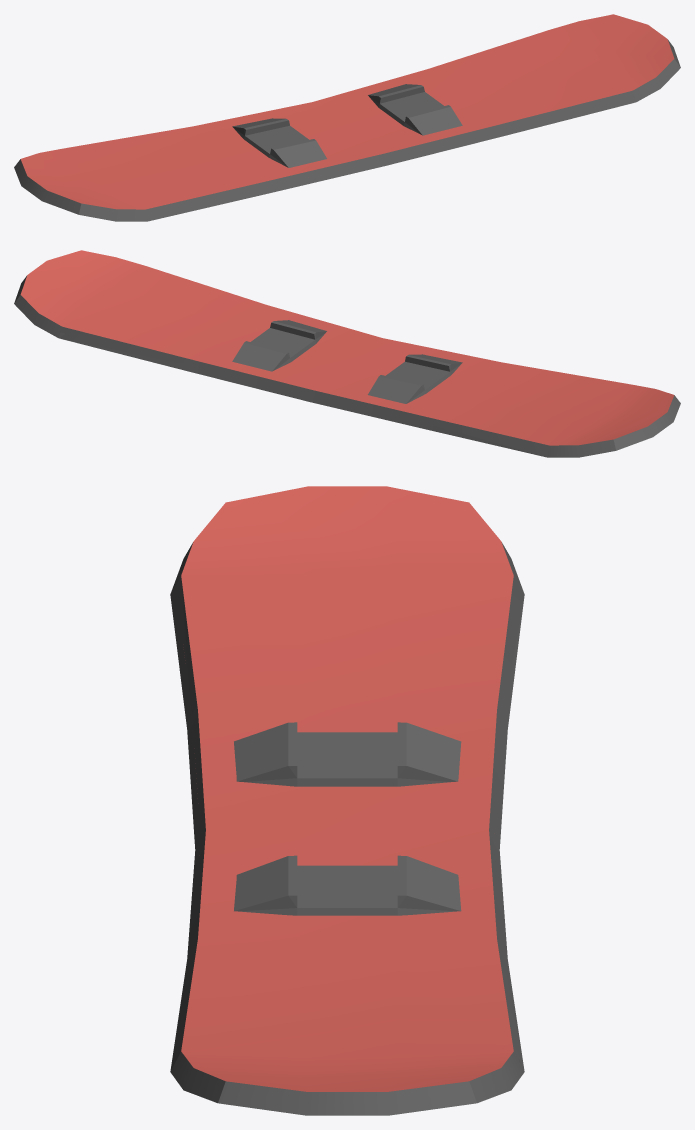
File: ice_snowboard_01.fbx
3 views of the same model, one above another, from view 1: azimuth 30°, elevation 25°; view 2: azimuth 150°, elevation 25°; view 3: azimuth 270°, elevation 25° (orthographic). The views are drawn at different scales.
Parts seen in each view (by area): view 1: snowboard, snowboard_bot_COL, snowboard_top_COL; view 2: snowboard, snowboard_bot_COL, snowboard_top_COL; view 3: snowboard, snowboard_bot_COL, snowboard_bot_end_COL, snowboard_top_end_COL, snowboard_top_COL.
Part boxes in pixels (bbox=[...]): snowboard: bbox=[14, 14, 680, 221]; snowboard_bot_COL: bbox=[146, 96, 636, 221]; snowboard_top_COL: bbox=[145, 87, 634, 215]; snowboard: bbox=[14, 250, 680, 457]; snowboard_bot_COL: bbox=[58, 332, 548, 455]; snowboard_top_COL: bbox=[191, 323, 449, 395]; snowboard: bbox=[170, 486, 524, 1115]; snowboard_bot_COL: bbox=[170, 585, 524, 1070]; snowboard_bot_end_COL: bbox=[170, 1062, 522, 1115]; snowboard_top_end_COL: bbox=[176, 1051, 505, 1103]; snowboard_top_COL: bbox=[176, 576, 502, 1060].
Size of the model in its own units: 2.57 by 0.1297 by 0.6246.
1 material, 1 textured.
